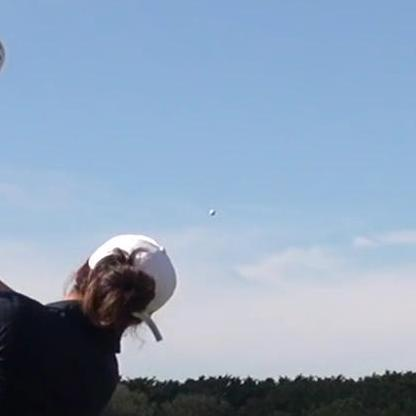golfball: (206, 207, 213, 214)
